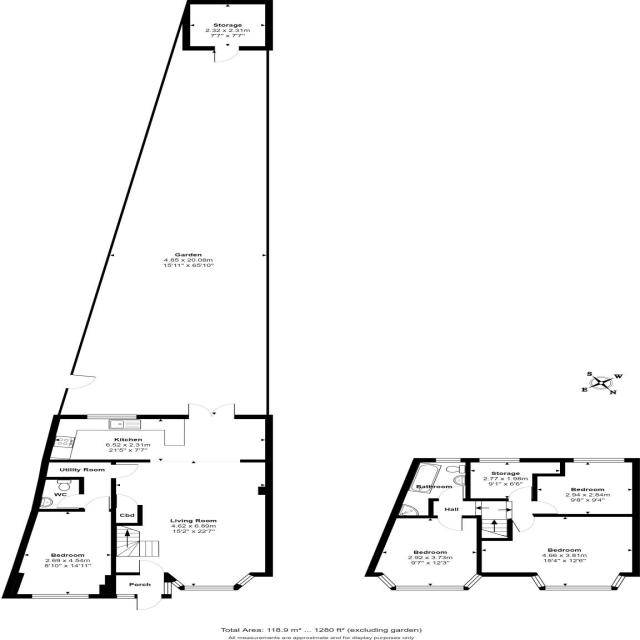DOOR: (510, 513, 535, 533), (83, 496, 111, 512), (56, 494, 85, 509), (438, 485, 465, 501), (437, 515, 463, 531), (507, 486, 533, 501), (531, 501, 559, 514)
DOUBLE DOOR: (182, 401, 241, 419)
ROOM: (41, 403, 274, 591), (476, 514, 640, 591), (2, 496, 117, 599), (364, 515, 483, 591), (532, 458, 640, 517)
WINDOW: (377, 573, 484, 591), (530, 575, 626, 591), (171, 573, 256, 591), (31, 594, 90, 599), (573, 458, 625, 463), (86, 414, 138, 419), (479, 458, 520, 463), (435, 457, 461, 463)
